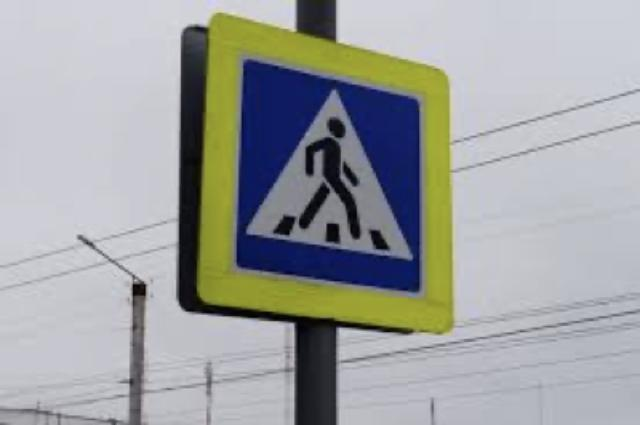crosswalk-sign: (179, 11, 455, 335)
